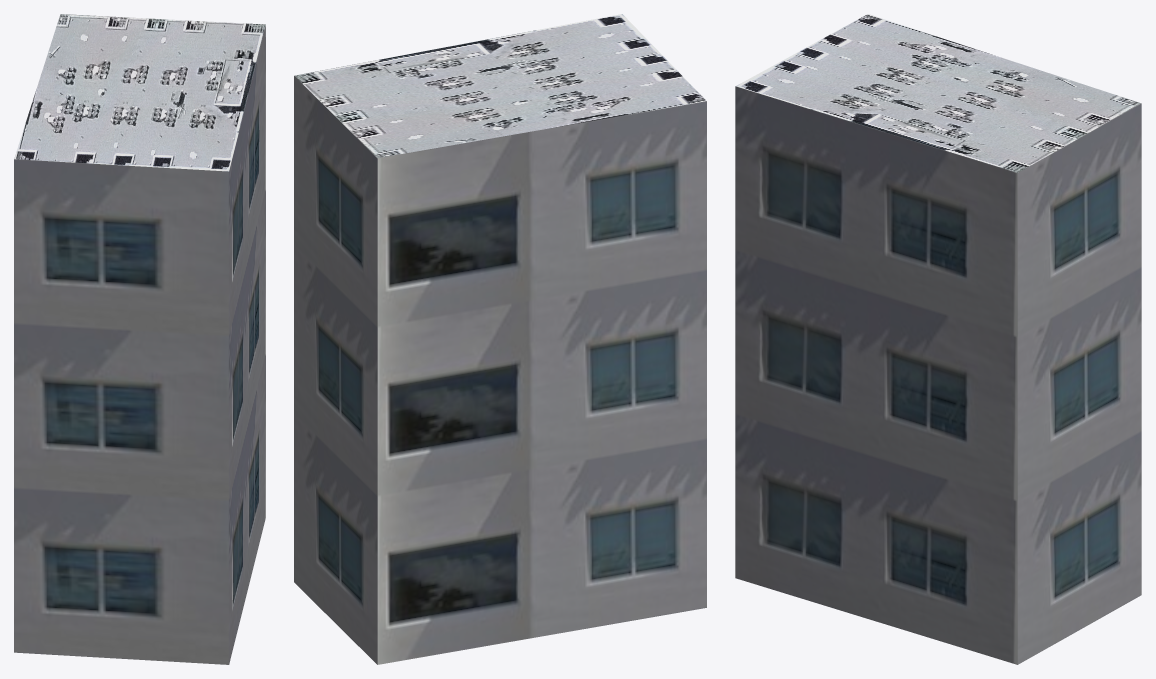
The model's file is ResTex__3688.fbx.
3 views of the same model, side by side, from view 1: azimuth 30°, elevation 25°; view 2: azimuth 150°, elevation 25°; view 3: azimuth 270°, elevation 25° (orthographic). The views are drawn at different scales.
Parts seen in each view (by area): view 1: CityEngineMaterial_10_m, CityEngineMaterial_2_m; view 2: CityEngineMaterial_10_m, CityEngineMaterial_2_m; view 3: CityEngineMaterial_10_m, CityEngineMaterial_2_m.
Part boxes in pixels (left/top/right/bottom): CityEngineMaterial_10_m: left=14, top=25, right=265, bottom=664; CityEngineMaterial_2_m: left=14, top=14, right=265, bottom=171; CityEngineMaterial_10_m: left=294, top=76, right=706, bottom=664; CityEngineMaterial_2_m: left=294, top=14, right=706, bottom=158; CityEngineMaterial_10_m: left=735, top=86, right=1141, bottom=664; CityEngineMaterial_2_m: left=736, top=14, right=1140, bottom=172.
Size of the model in its own units: 6.24 by 9 by 6.73.
Materials: 2 (2 with a texture image).
